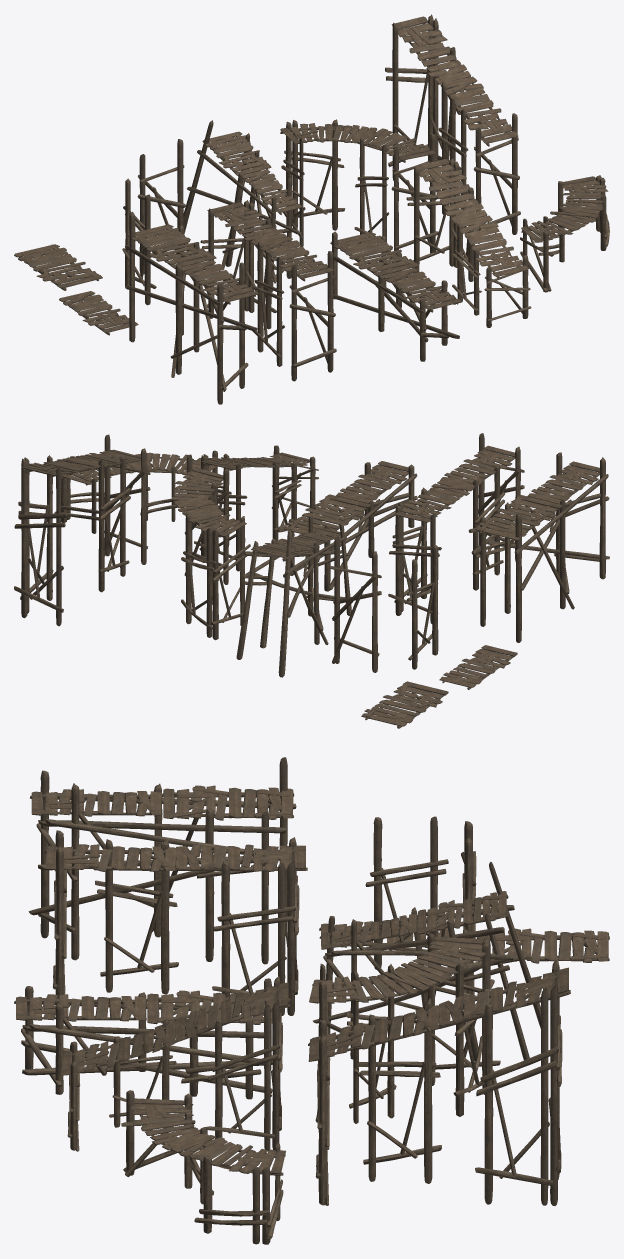
Rendered from Scaffolding_A1.fbx.
3 views of the same model, one above another, from view 1: azimuth 30°, elevation 25°; view 2: azimuth 150°, elevation 25°; view 3: azimuth 270°, elevation 25° (orthographic). The views are drawn at different scales.
Parts seen in each view (by area): view 1: Scaffolding_A8, Scaffolding_A6, Scaffolding_A5, Scaffolding_A3, Scaffolding_A7, Scaffolding_A8.001, Scaffolding_A1, Scaffolding_A5.001, Scaffolding_A4, Scaffolding_A7.001, Scaffolding_A3.001, Scaffolding_A6.001 (+12 smaller); view 2: Scaffolding_A6, Scaffolding_A8, Scaffolding_A5, Scaffolding_A7, Scaffolding_A8.001, Scaffolding_A4, Scaffolding_A1, Scaffolding_A6.001, Scaffolding_A5.001, Scaffolding_A7.001, Scaffolding_A4.001, Scaffolding_A3 (+12 smaller); view 3: Scaffolding_A8, Scaffolding_A6, Scaffolding_A5, Scaffolding_A3, Scaffolding_A8.001, Scaffolding_A1, Scaffolding_A7, Scaffolding_A2, Scaffolding_A5.001, Scaffolding_A4, Scaffolding_A6.001, Scaffolding_A3.001 (+9 smaller).
Boxes of the visible parts, box(x1,y1,x2,y2) form: Scaffolding_A8: box(385, 14, 520, 243); Scaffolding_A6: box(125, 212, 258, 404); Scaffolding_A5: box(200, 200, 336, 381); Scaffolding_A3: box(406, 158, 530, 327); Scaffolding_A7: box(280, 120, 438, 262); Scaffolding_A8.001: box(385, 14, 520, 243); Scaffolding_A1: box(330, 232, 461, 361); Scaffolding_A5.001: box(201, 200, 336, 381); Scaffolding_A4: box(183, 120, 301, 292); Scaffolding_A7.001: box(280, 119, 438, 252); Scaffolding_A3.001: box(407, 158, 531, 327); Scaffolding_A6.001: box(125, 212, 257, 404); Scaffolding_A6: box(468, 452, 609, 642); Scaffolding_A8: box(14, 435, 150, 625); Scaffolding_A5: box(388, 433, 524, 623); Scaffolding_A7: box(171, 455, 250, 639); Scaffolding_A8.001: box(14, 434, 150, 626); Scaffolding_A4: box(237, 516, 351, 677); Scaffolding_A1: box(277, 461, 417, 591); Scaffolding_A6.001: box(470, 452, 609, 642); Scaffolding_A5.001: box(388, 433, 524, 622); Scaffolding_A7.001: box(172, 454, 249, 640); Scaffolding_A4.001: box(236, 515, 351, 676); Scaffolding_A3: box(194, 445, 318, 571); Scaffolding_A8: box(308, 960, 570, 1205); Scaffolding_A6: box(29, 757, 296, 964); Scaffolding_A5: box(45, 830, 307, 1015); Scaffolding_A3: box(61, 977, 290, 1151); Scaffolding_A8.001: box(308, 959, 570, 1205); Scaffolding_A1: box(14, 978, 272, 1099); Scaffolding_A7: box(309, 933, 500, 1149); Scaffolding_A2: box(121, 1090, 285, 1244); Scaffolding_A5.001: box(45, 830, 307, 1015); Scaffolding_A4: box(313, 862, 540, 1060); Scaffolding_A6.001: box(28, 757, 296, 963); Scaffolding_A3.001: box(61, 976, 290, 1151).
Bounding box in the file's own units: 2962 × 937 × 2266.
